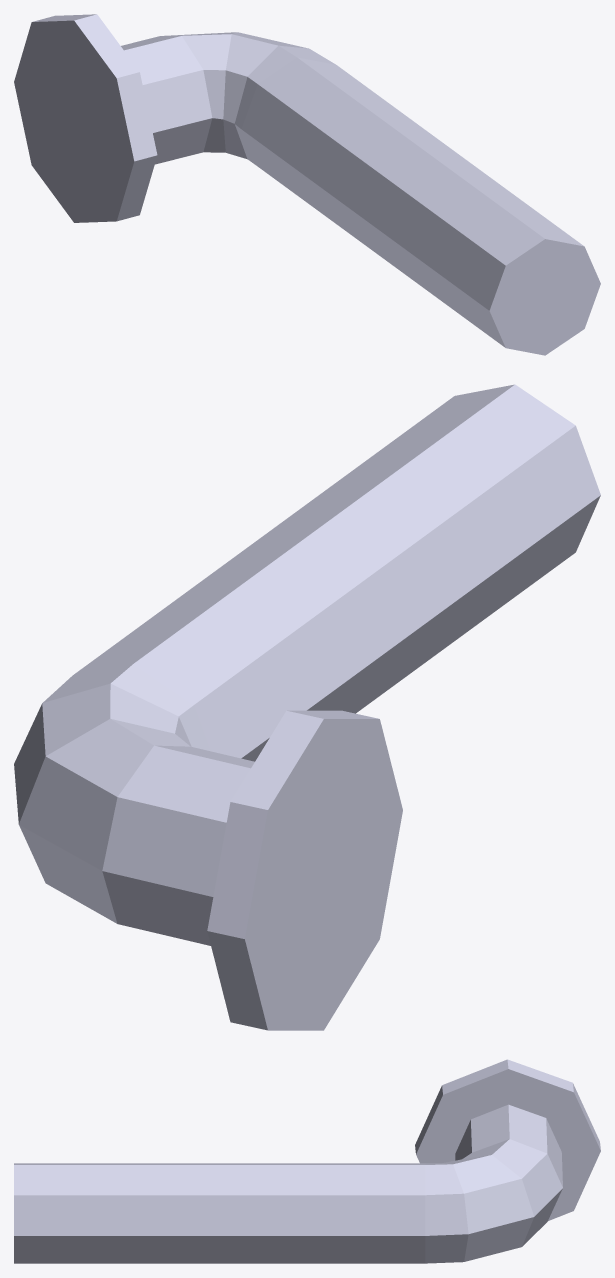
Rendered from paperholder.fbx.
The picture shows the model from 3 angles, top to bottom: view 1: azimuth 30°, elevation 25°; view 2: azimuth 150°, elevation 25°; view 3: azimuth 270°, elevation 25°; orthographic projection. The views are drawn at different scales.
Visible parts, largest first — view 1: Cylinder.019; view 2: Cylinder.019; view 3: Cylinder.019.
Boxes of the visible parts, x1,y1,x2,y2 form: Cylinder.019: (14,14,600,355); Cylinder.019: (14,384,600,1030); Cylinder.019: (14,1059,600,1263).
Bounding box in the file's own units: 30.82 × 25.53 × 80.94.
